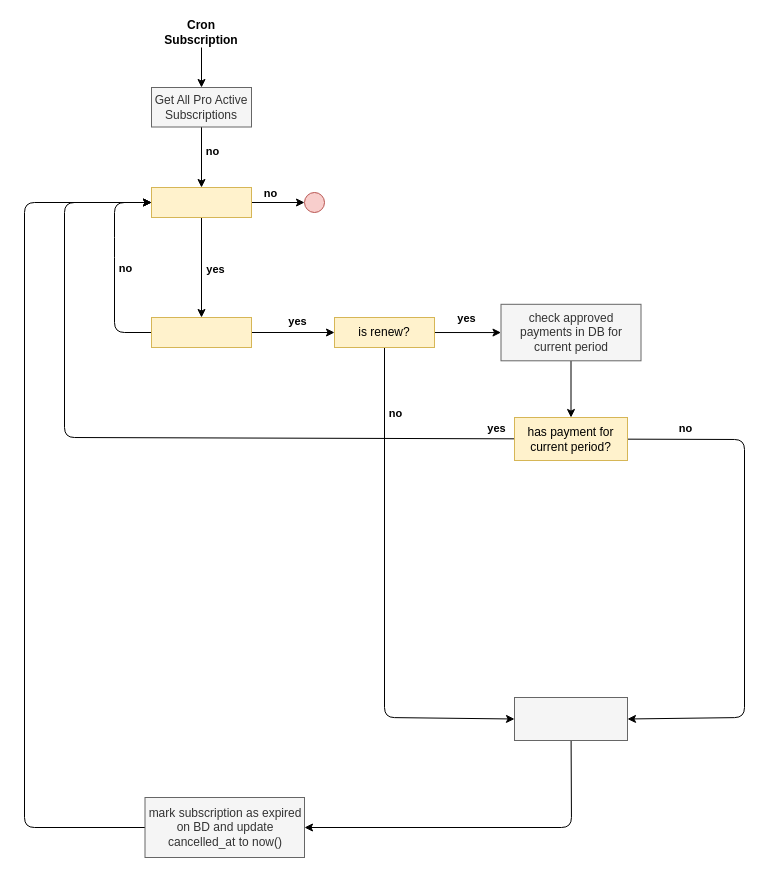
Image size: 770x875. Some labels were removed from this diagram. Each missing label, with the centre of its shape:
cancel subscription on provider: the point at 571,718
has subscriptions?: the point at 201,202
subscription expired?: the point at 201,332
